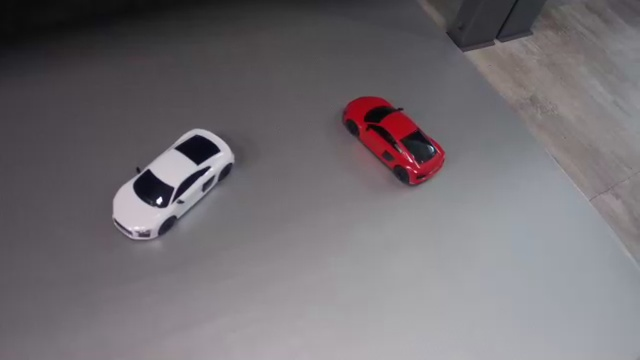car: (112, 127, 236, 240), (342, 96, 446, 186)
